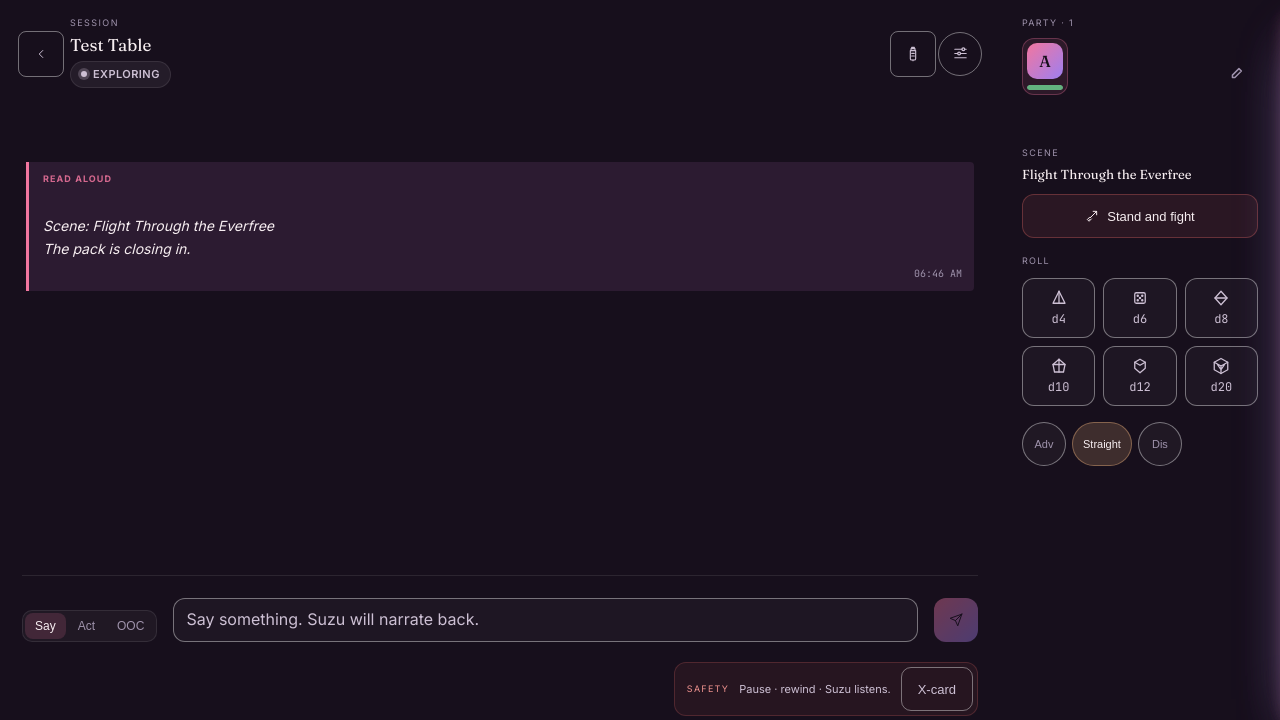
Test: Story (desktop): the tray is the stage's while exploring and Roll's in a fight › exploring -> combat: the tray unmounts, Roll mounts in the composer, `advantage` survives, and focus that was on a die lands on the scene head
Expected: the text "Test Table" is shown, [70, 34, 151, 54]
Expected: the button "Stand and fight" is shown, [1022, 194, 1258, 238]
Click the button with aria-label "advantage".
click(1044, 444)  # box [1022, 422, 1066, 466]
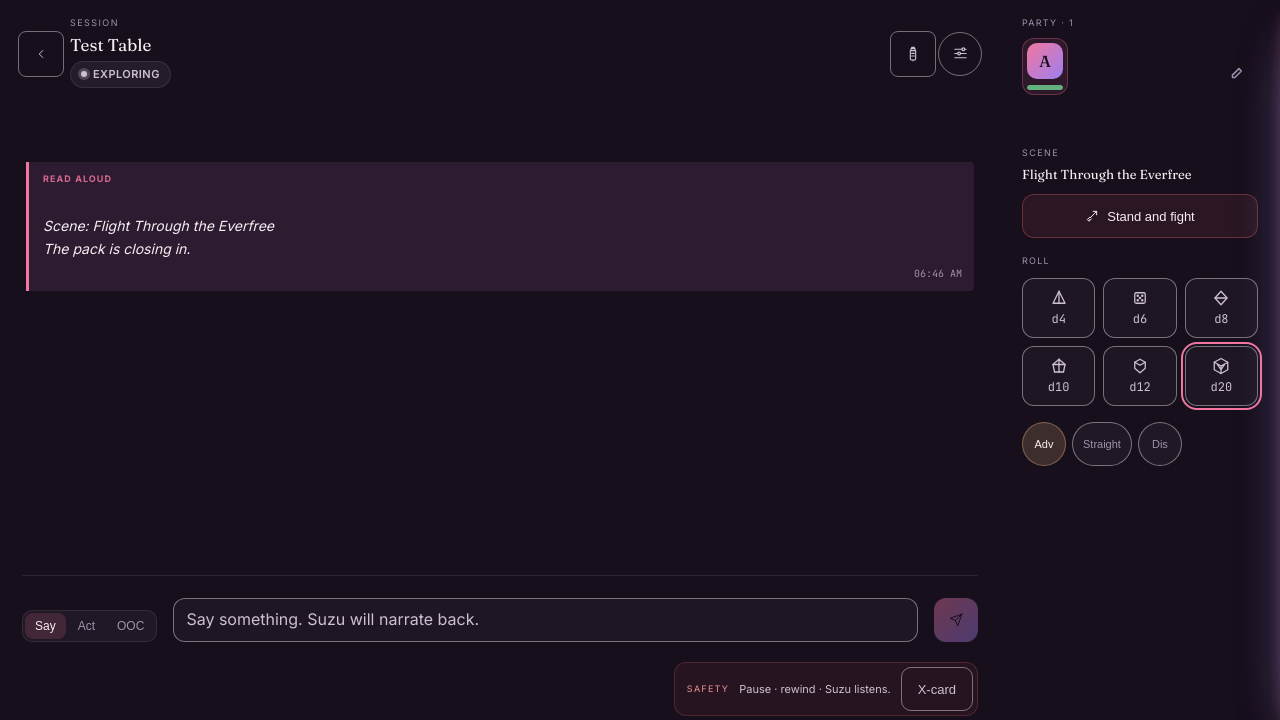
Expected: the button with aria-label "advantage" is pressed, [1022, 422, 1066, 466]
Click the button "Stand and fight".
click(1140, 216)  # box [1022, 194, 1258, 238]
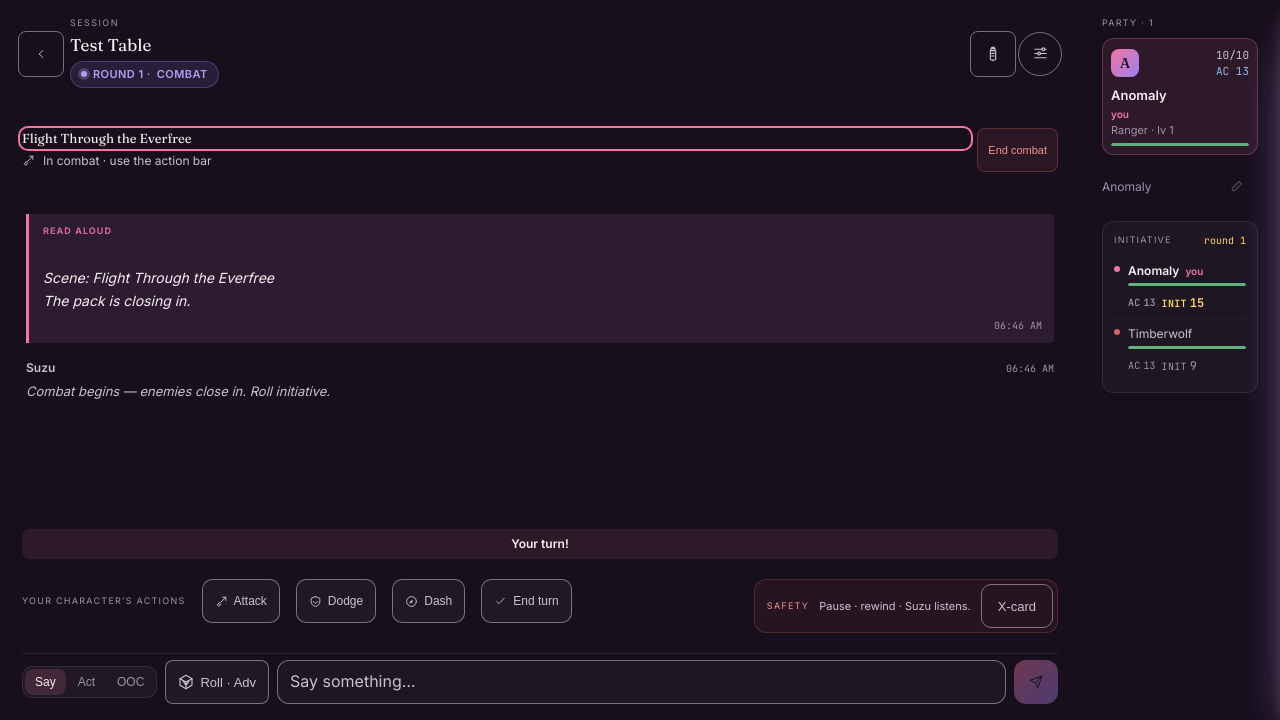
Expected: the button "Roll · Adv" is shown
Click the button "Roll · Adv".
click(217, 682)  # box [165, 660, 269, 704]
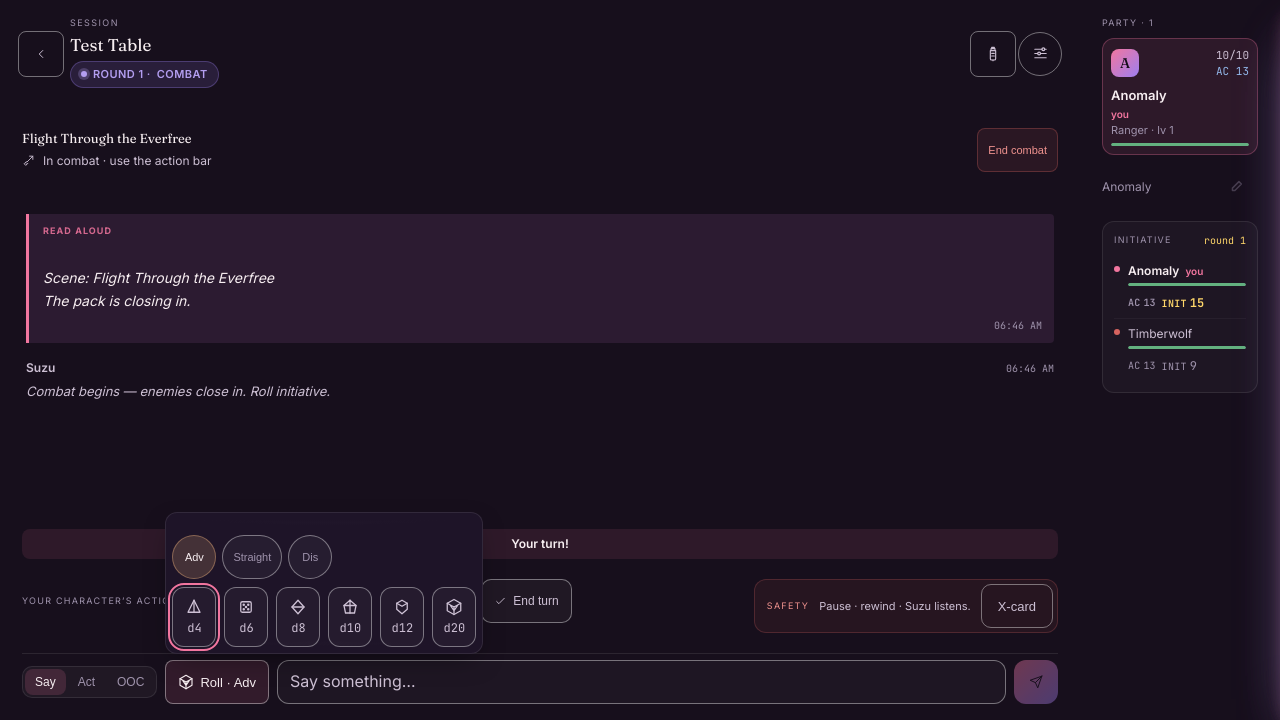
Expected: the dialog named "Roll dice" is shown, [165, 512, 483, 654]
